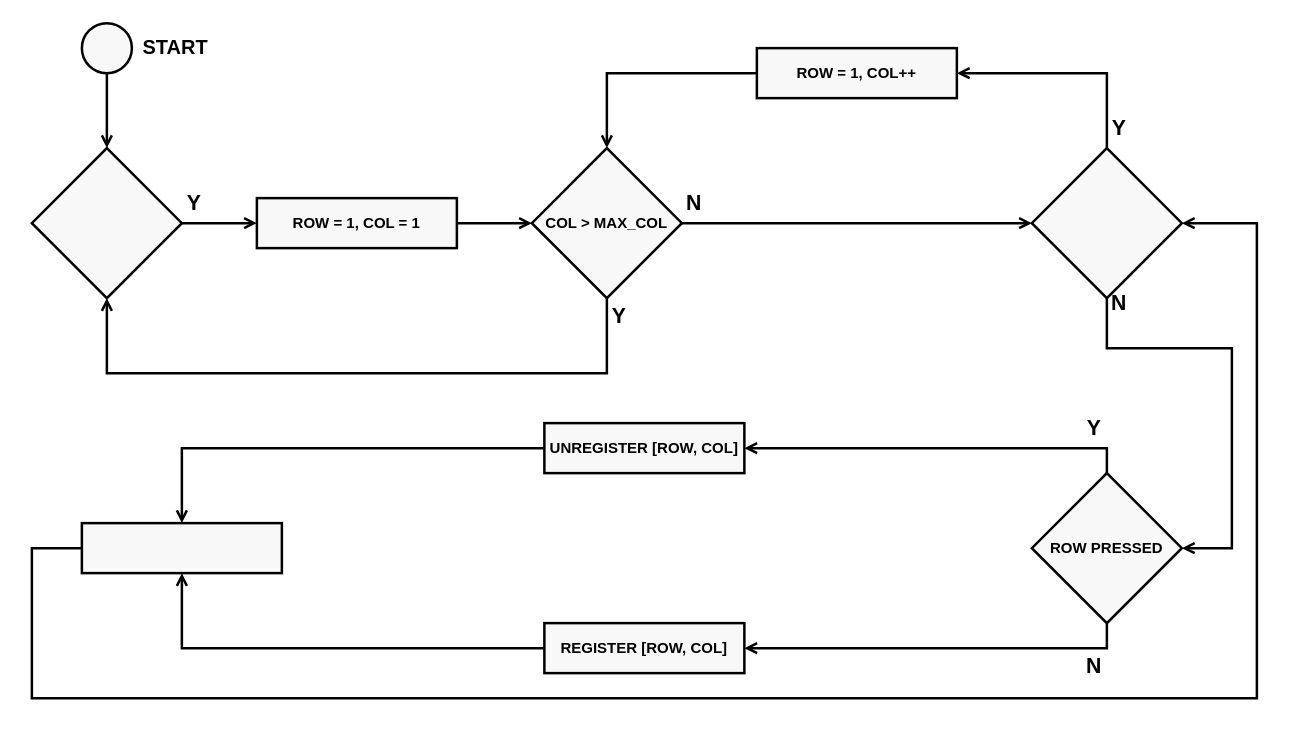
The diagram is 1289 pixels wide and 730 high, and some of its shapes have lost their labels. The centre of each missing label's shape, as x and y in pixels:
"ROW > MAX_ROW" belongs at (x=1106, y=222).
"ROW++" belongs at (x=181, y=547).
"true == true" belongs at (x=106, y=222).
